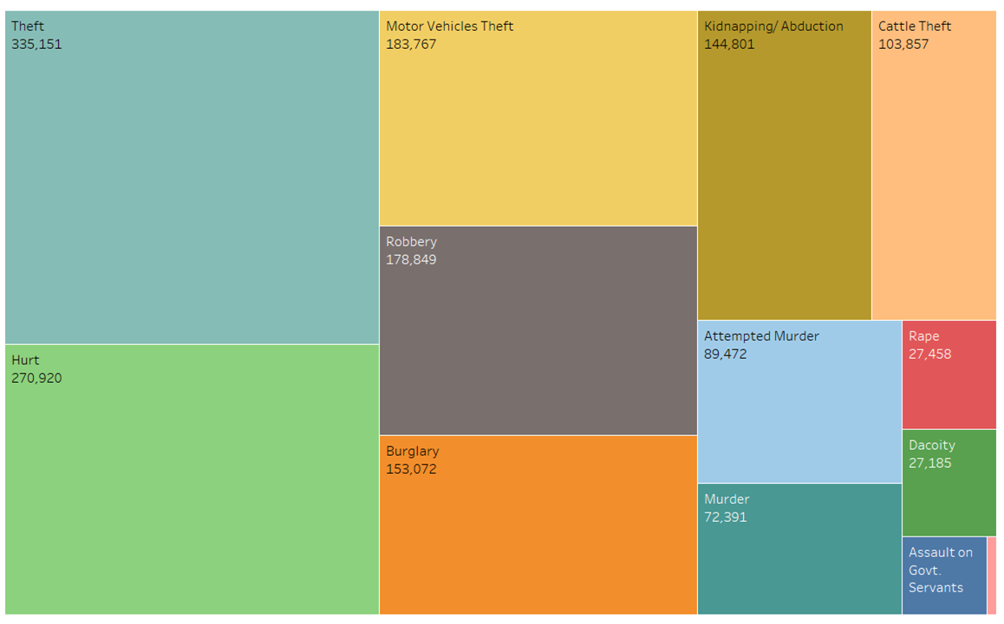

This screenshot's page, from the dashboard's own definition file:
{"tool":"tableau","page":{"name":"Dashboard 1","canvas":[1624,868],"ordinal":0},"visuals":[{"type":"worksheet","box":[0,0,1624,868]},{"type":"worksheet","param":"horz","box":[8,8,1347,852]},{"type":"worksheet","box":[8,8,1347,852]},{"type":"worksheet","title":"Sheet 1","mark":"Automatic","rows":["Crime No"],"cols":["Year"],"box":[8,8,1347,334.4]},{"type":"worksheet","param":"vert","box":[1355,8,261,852]},{"type":"worksheet","title":"Sheet 1","mark":"Automatic","rows":["Crime No"],"cols":["Year"],"param":"[federated.1cmjsau10frqyy12kbpix1j6jsm1].[none:Year:qk]","box":[1355,8,261,73]},{"type":"worksheet","title":"Sheet 4","mark":"Automatic","rows":["Division","Crime No"],"cols":["Crime Type"],"param":"[federated.1cmjsau10frqyy12kbpix1j6jsm1].[none:Crime Type:nk]","box":[1355,81,261,381]},{"type":"worksheet","title":"Sheet 3","mark":"Automatic","rows":["Crime No"],"cols":["District","Year"],"box":[8,342.4,673.4,517.6]},{"type":"worksheet","title":"Sheet 4","mark":"Automatic","rows":["Division","Crime No"],"cols":["Crime Type"],"box":[681.4,342.4,673.6,517.6]}]}

Visuals, with their boxes on the page's 1624x868 design canvas (x1, y1, x2, y2). These are canvas units, not pixel positions in the 1004x624 screenshot, which may show the page scaled, cropped or inside an application window:
worksheet: Rect(0, 0, 1624, 868)
worksheet: Rect(8, 8, 1355, 860)
worksheet: Rect(8, 8, 1355, 860)
"Sheet 1" worksheet: Rect(8, 8, 1355, 342)
worksheet: Rect(1355, 8, 1616, 860)
"Sheet 1" worksheet: Rect(1355, 8, 1616, 81)
"Sheet 4" worksheet: Rect(1355, 81, 1616, 462)
"Sheet 3" worksheet: Rect(8, 342, 681, 860)
"Sheet 4" worksheet: Rect(681, 342, 1355, 860)
